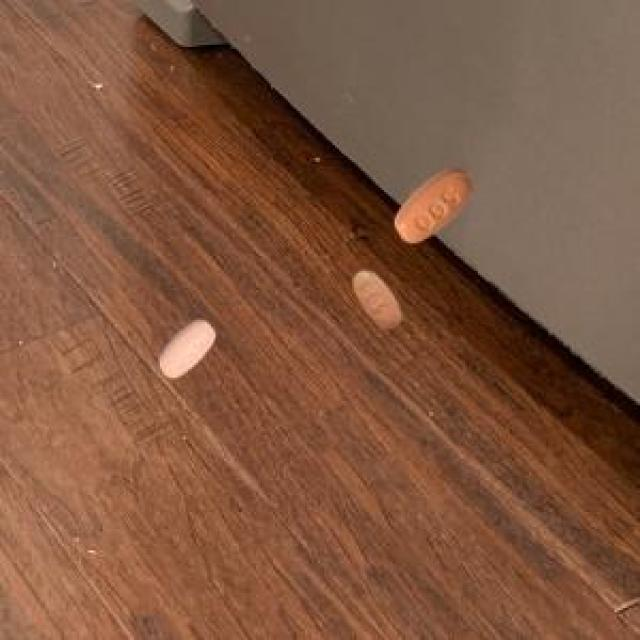Biogesic: (380, 153, 486, 250), (144, 308, 228, 386), (343, 256, 414, 336)
